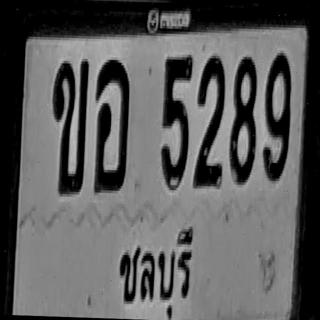A02: (50, 59, 88, 193)
A43: (92, 57, 130, 191)
N02: (193, 54, 226, 185)
N05: (160, 52, 192, 186)
N08: (228, 54, 258, 182)
N09: (262, 51, 292, 180)
P13: (111, 218, 195, 320)
